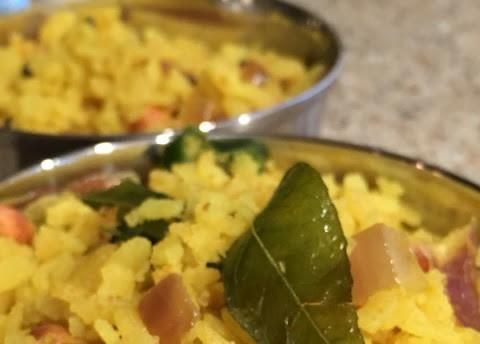Poha: (0, 124, 480, 344), (0, 0, 325, 148)
